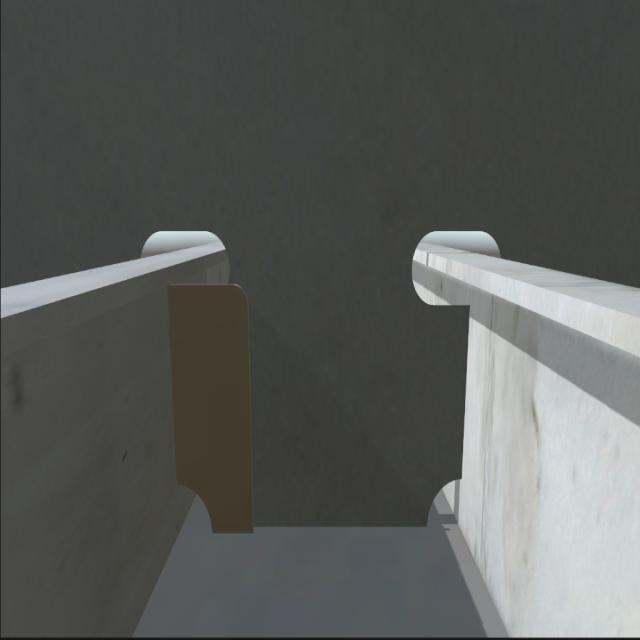fillet_hole: (172, 481, 210, 531)
fillet_yong_jeop_jang: (205, 523, 435, 534)
longi_yong_jeop_jang: (162, 282, 180, 476), (456, 296, 471, 475)
plate_CP05: (166, 284, 253, 532)
